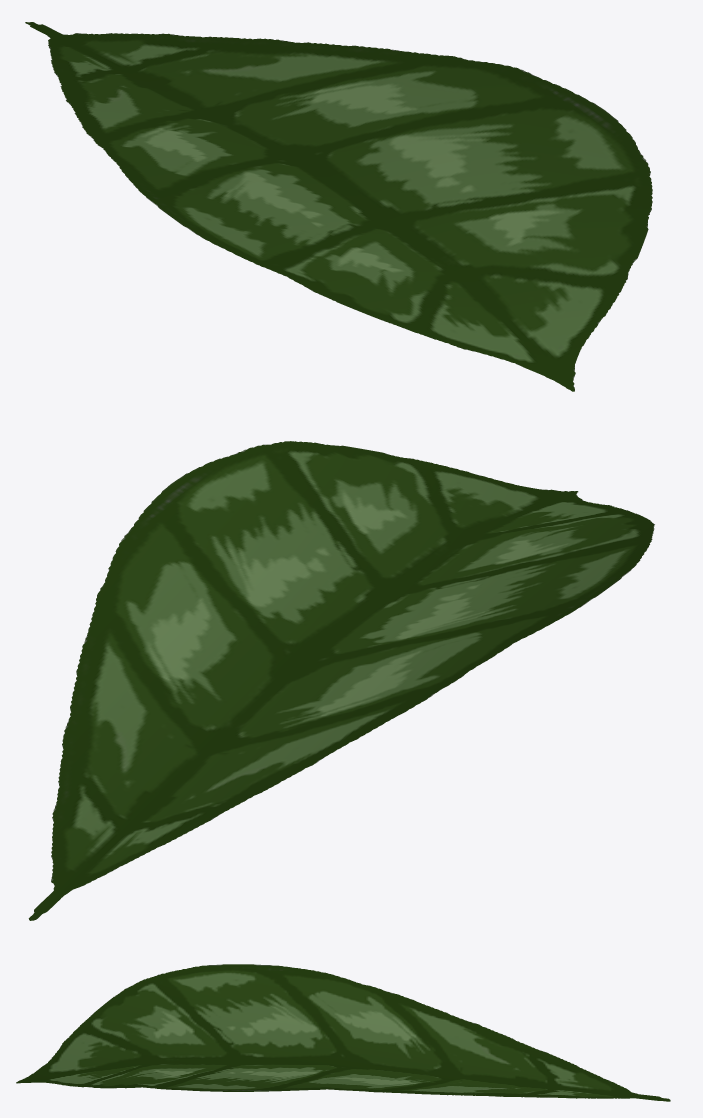
File: SM_FleurSpline_02.fbx
3 views of the same model, one above another, from view 1: azimuth 30°, elevation 25°; view 2: azimuth 150°, elevation 25°; view 3: azimuth 270°, elevation 25° (orthographic). The views are drawn at different scales.
Visible parts, largest first — view 1: SM_FleurSpline_02; view 2: SM_FleurSpline_02; view 3: SM_FleurSpline_02.
Part boxes in pixels (x1,y1,x2,y2): SM_FleurSpline_02: (25,22,652,391); SM_FleurSpline_02: (28,441,654,920); SM_FleurSpline_02: (16,964,670,1101).
Size of the model in its own units: 16.69 by 4.59 by 37.19.
1 material, 1 textured.
